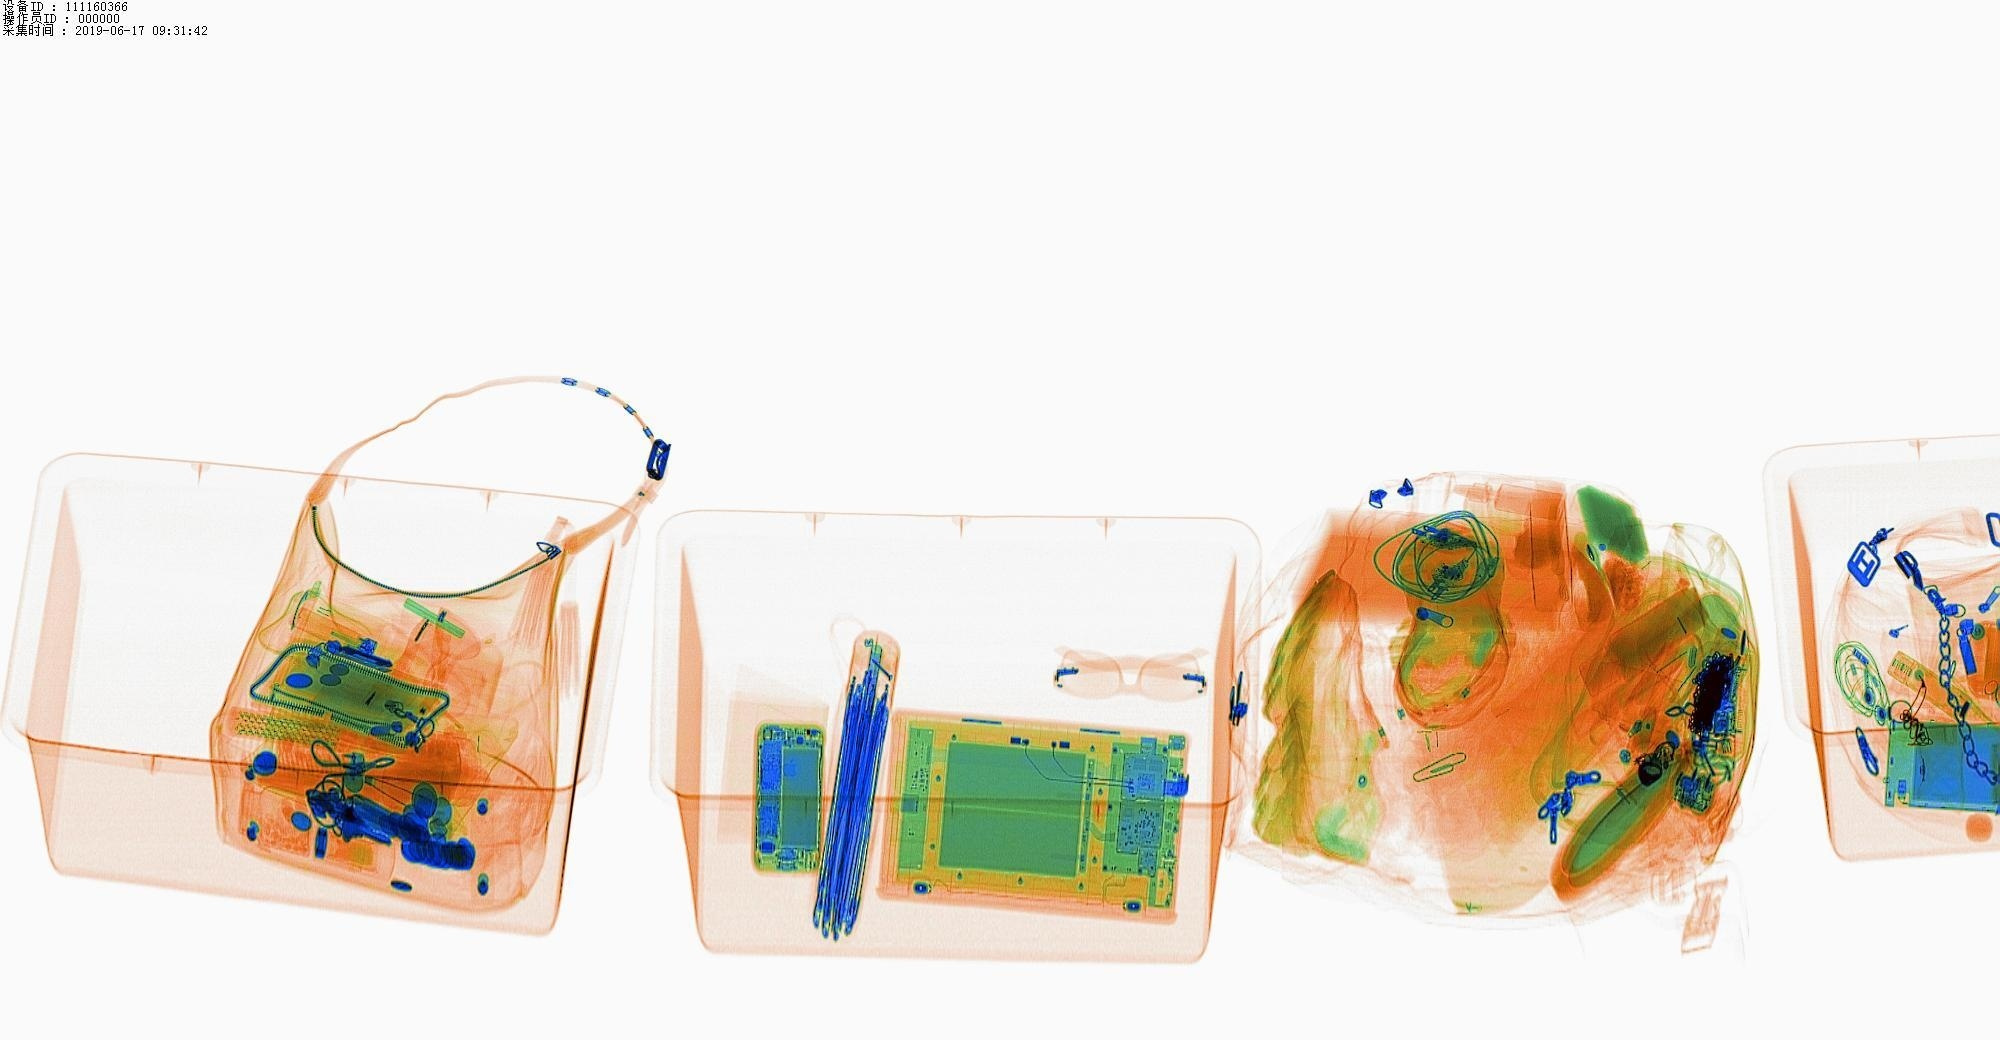NonmetallicFire: (280, 599, 415, 677), (267, 726, 405, 791)
